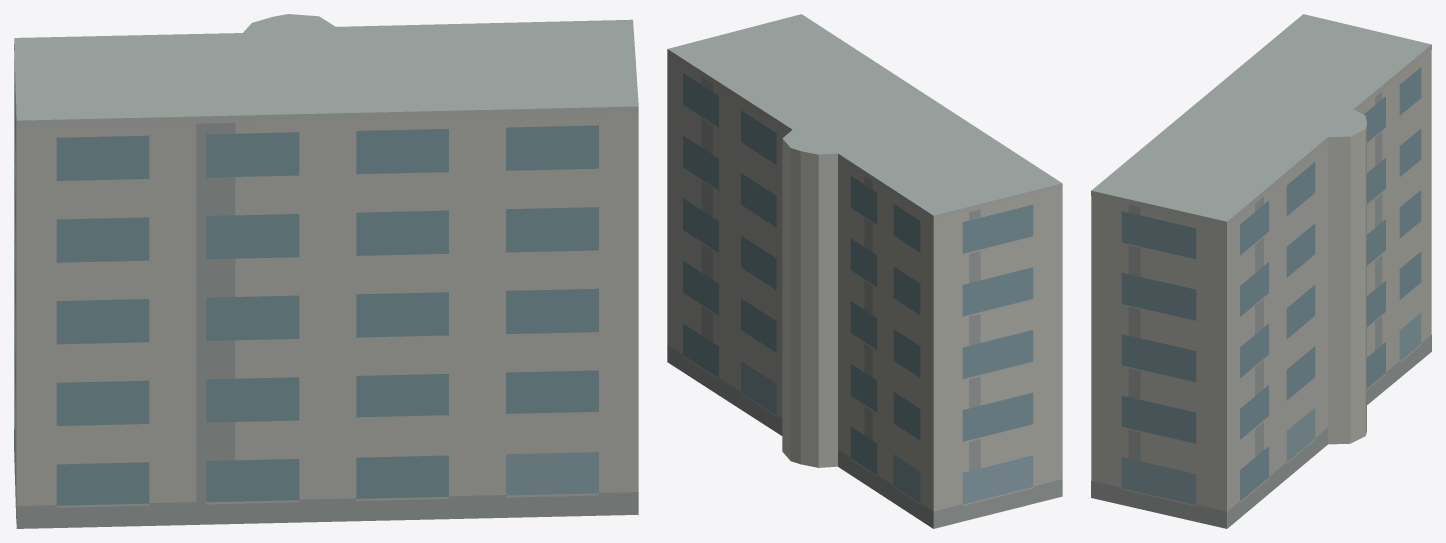
The model's file is survey-upis-33011095.glb.
3 renders of one model, left to right at view 1: azimuth 30°, elevation 25°; view 2: azimuth 150°, elevation 25°; view 3: azimuth 270°, elevation 25°, orthographic. The views are drawn at different scales.
Parts seen in each view (by area): view 1: survey-upis-33011095.tmp; view 2: survey-upis-33011095.tmp; view 3: survey-upis-33011095.tmp.
Part boxes in pixels (x1,y1,x2,y2): survey-upis-33011095.tmp: (14, 14, 638, 528); survey-upis-33011095.tmp: (667, 14, 1062, 528); survey-upis-33011095.tmp: (1091, 14, 1431, 528).
Size of the model in its own units: 20.02 by 13.8 by 13.88.
